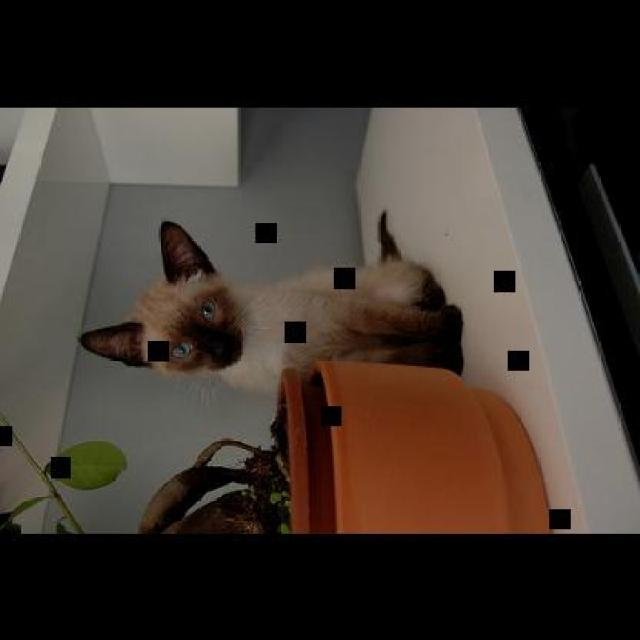unauthorized: (77, 208, 465, 402)
